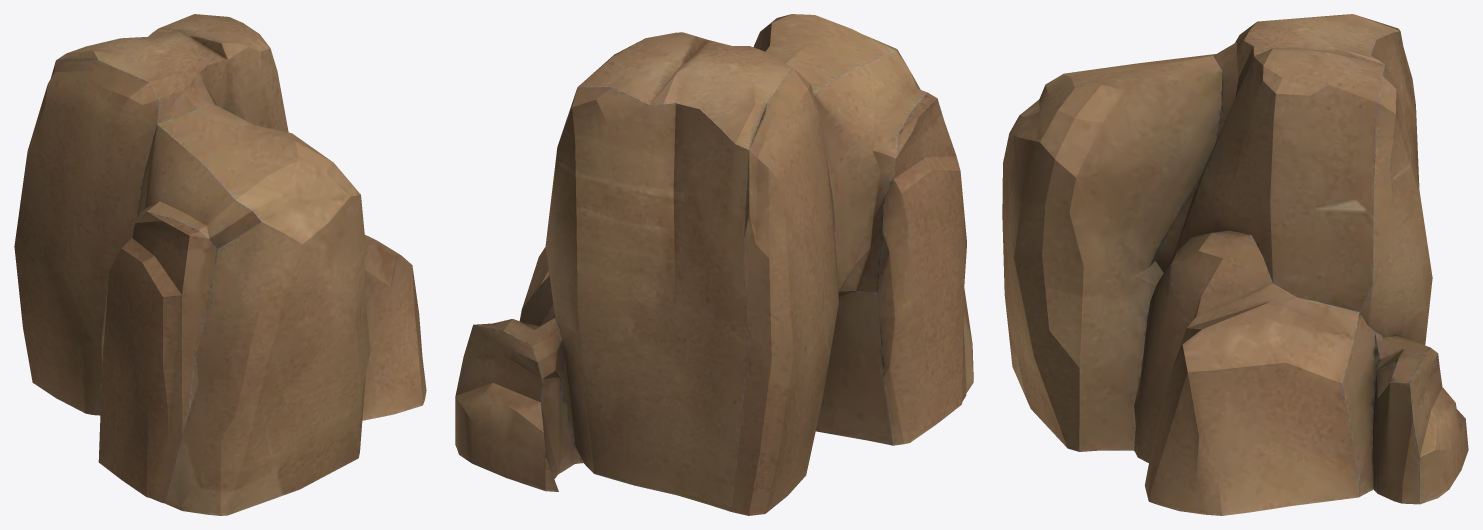
3 views of the same model, side by side, from view 1: azimuth 30°, elevation 25°; view 2: azimuth 150°, elevation 25°; view 3: azimuth 270°, elevation 25° (orthographic). The views are drawn at different scales.
Visible parts, largest first — view 1: body0_model0_lod0_mesh0; view 2: body0_model0_lod0_mesh0; view 3: body0_model0_lod0_mesh0.
Boxes of the visible parts, x1,y1,x2,y2 form: body0_model0_lod0_mesh0: [14, 14, 426, 515]; body0_model0_lod0_mesh0: [455, 14, 973, 515]; body0_model0_lod0_mesh0: [1002, 14, 1468, 515].
Bounding box in the file's own units: 215 × 221 × 247.
Materials: 1 (1 with a texture image).
